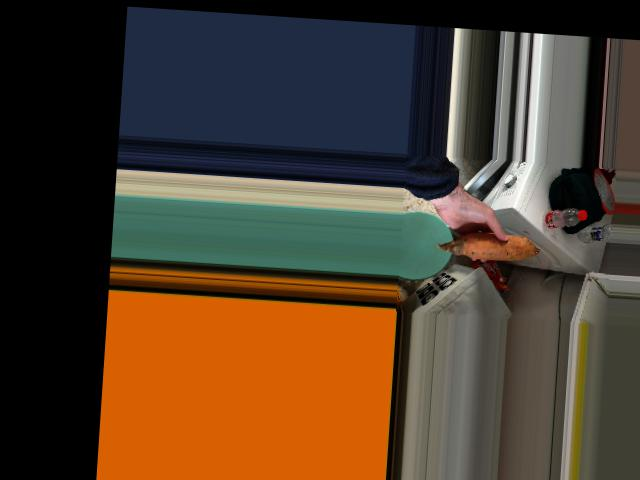sweet_potato: (449, 232, 537, 261)
